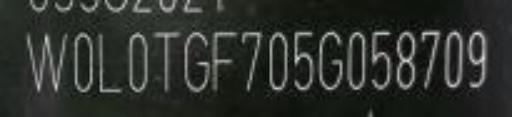letter: (17, 30, 69, 93), (212, 27, 242, 94), (182, 27, 212, 90), (316, 27, 344, 90), (238, 27, 264, 94), (392, 27, 418, 94), (94, 32, 122, 93), (150, 29, 178, 88), (265, 27, 289, 94), (292, 27, 316, 94), (440, 27, 466, 88), (467, 27, 491, 88), (417, 30, 441, 91), (127, 32, 151, 91), (369, 27, 391, 90), (72, 32, 94, 91), (348, 30, 366, 91)
